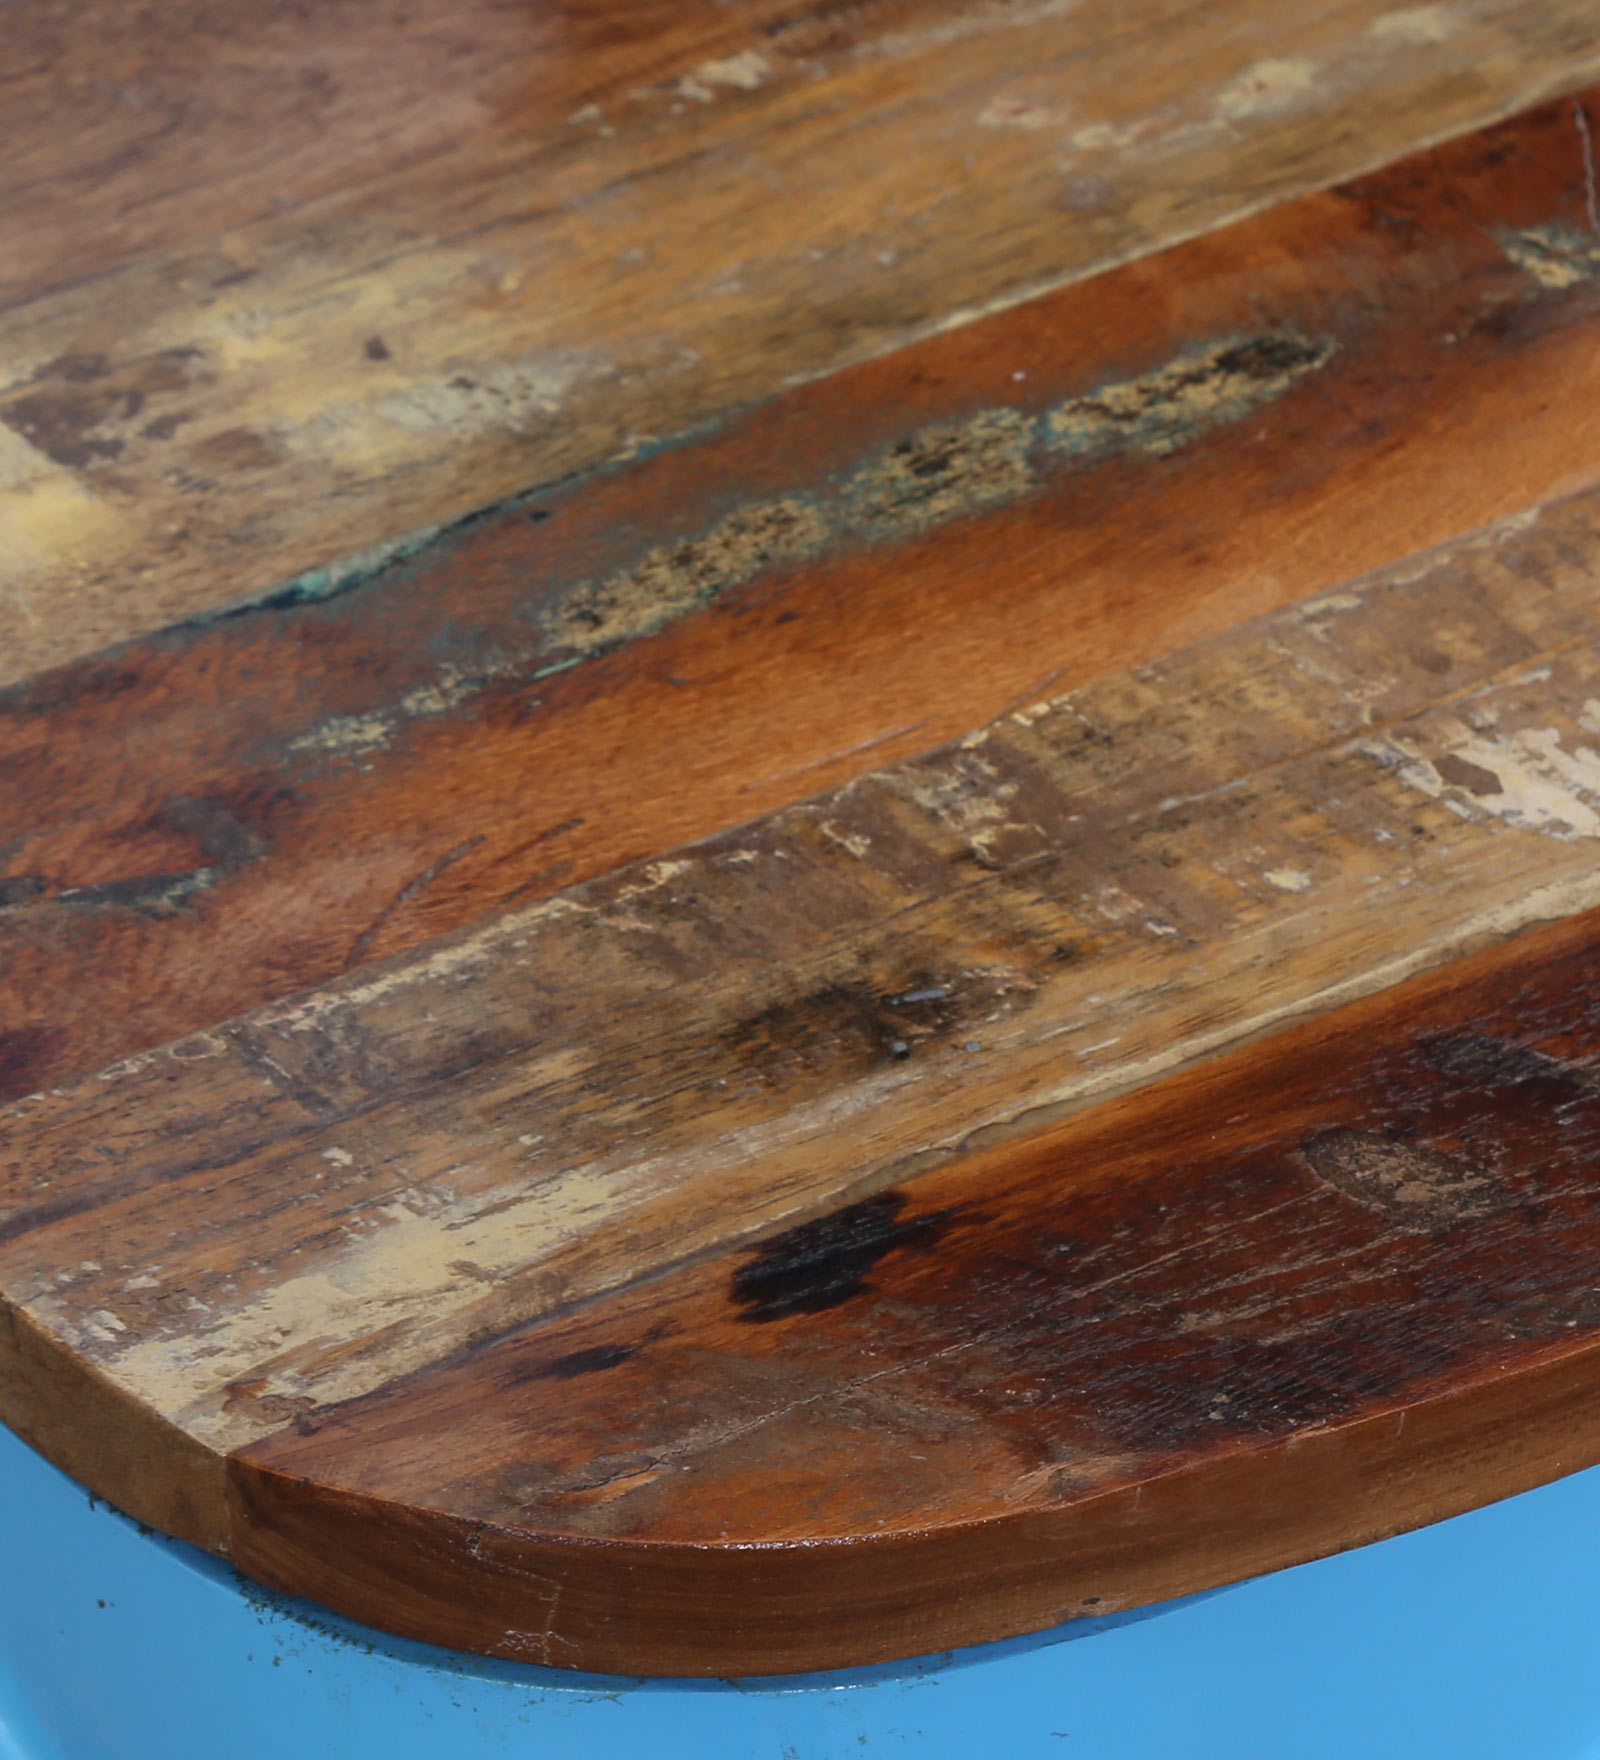Kumtor Metal Chair in Sky Blue Color with Wooden Seat by Bohemiana: (9, 8, 1600, 1760)
